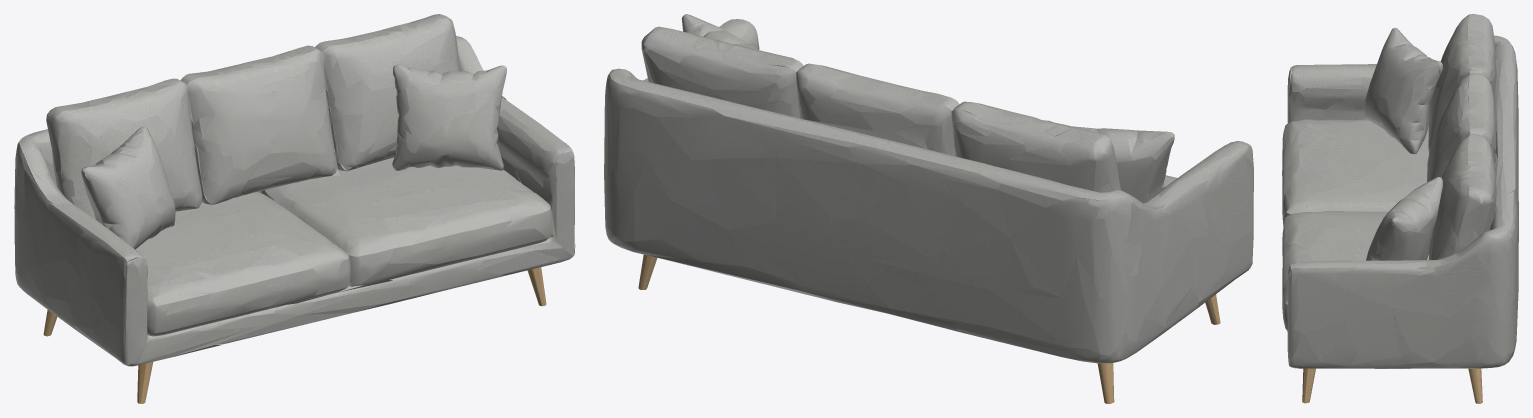
File: modern_sofa.glb
3 views of the same model, side by side, from view 1: azimuth 30°, elevation 25°; view 2: azimuth 150°, elevation 25°; view 3: azimuth 270°, elevation 25° (orthographic). The views are drawn at different scales.
Parts seen in each view (by area): view 1: Mesh_0; view 2: Mesh_0; view 3: Mesh_0.
Part boxes in pixels (x1,y1,x2,y2): Mesh_0: (14,14,575,403); Mesh_0: (604,14,1253,403); Mesh_0: (1282,14,1518,403).
Size of the model in its own units: 2.2 by 1.04 by 1.06.
1 material, 1 textured.
